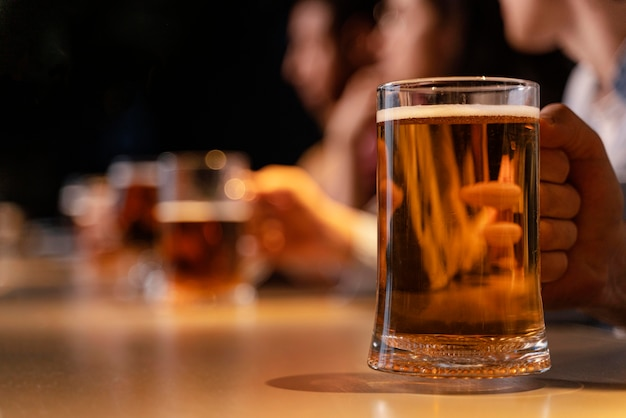alcohol: (368, 74, 558, 380)
